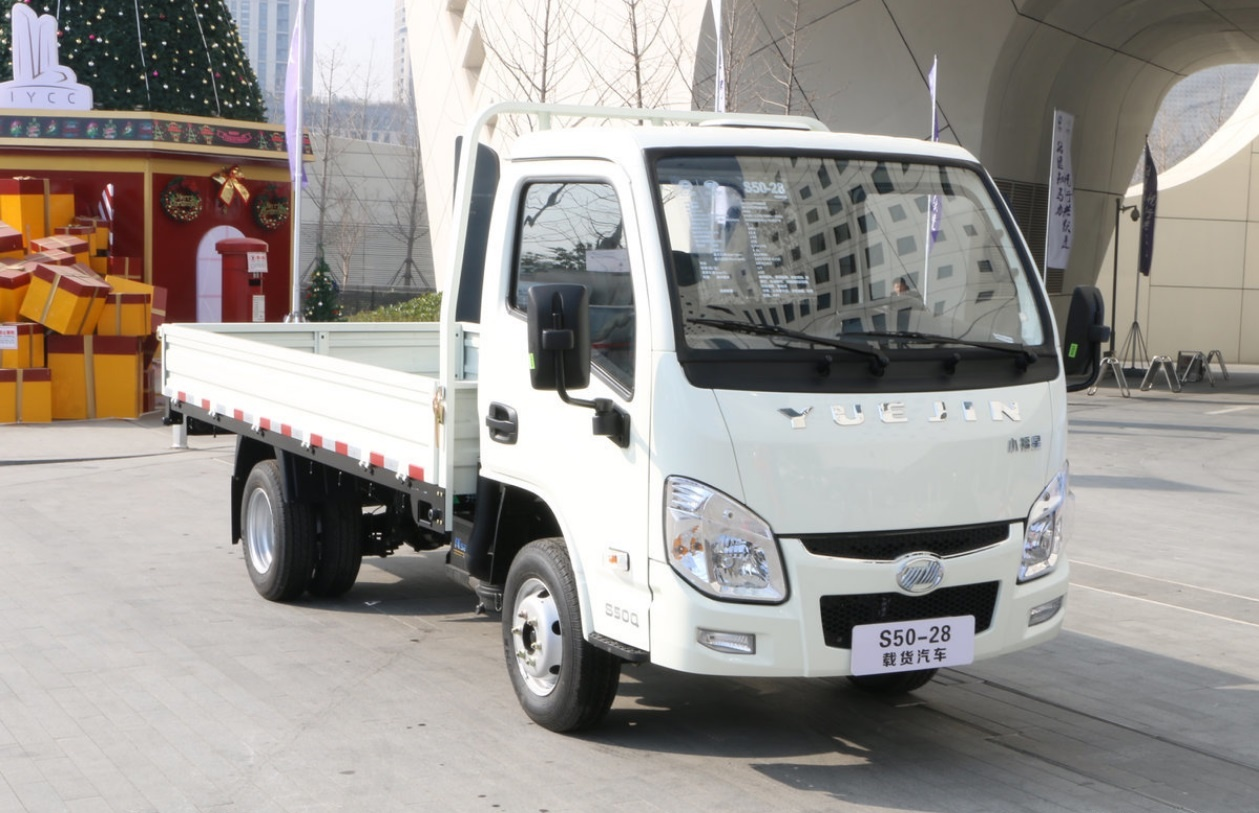truck: (145, 126, 1081, 746)
